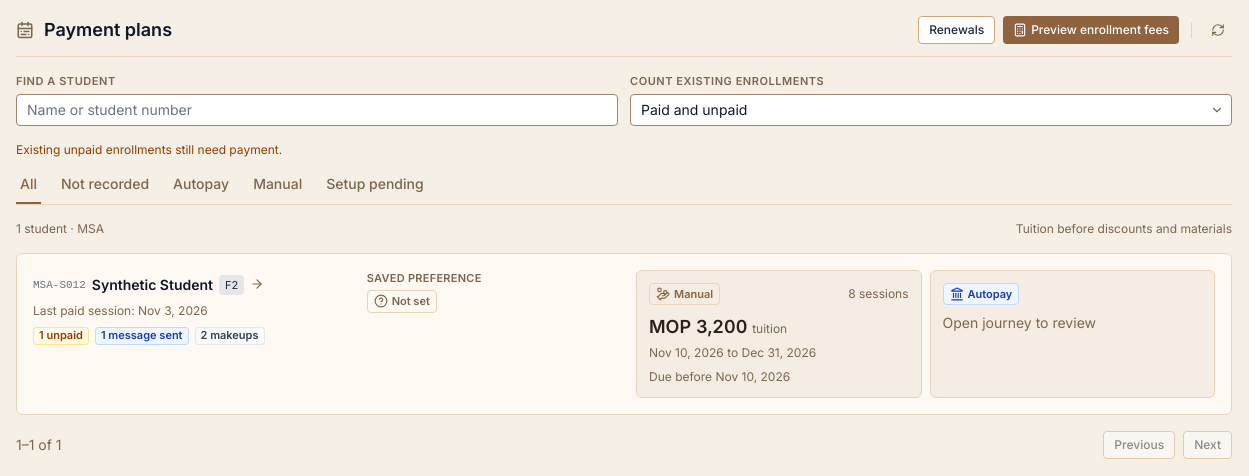
Test: billing source review › hides previous roster rows while a changed coverage assumption is loading
The width and height of the screenshot is (1249, 476).
Check: the text "Synthetic Student" is shown, box [92,275,213,295]
Select "Paid only" in the dropdown labelled "Count existing enrollments" at coordinates (931, 110), box [630,94,1232,126]
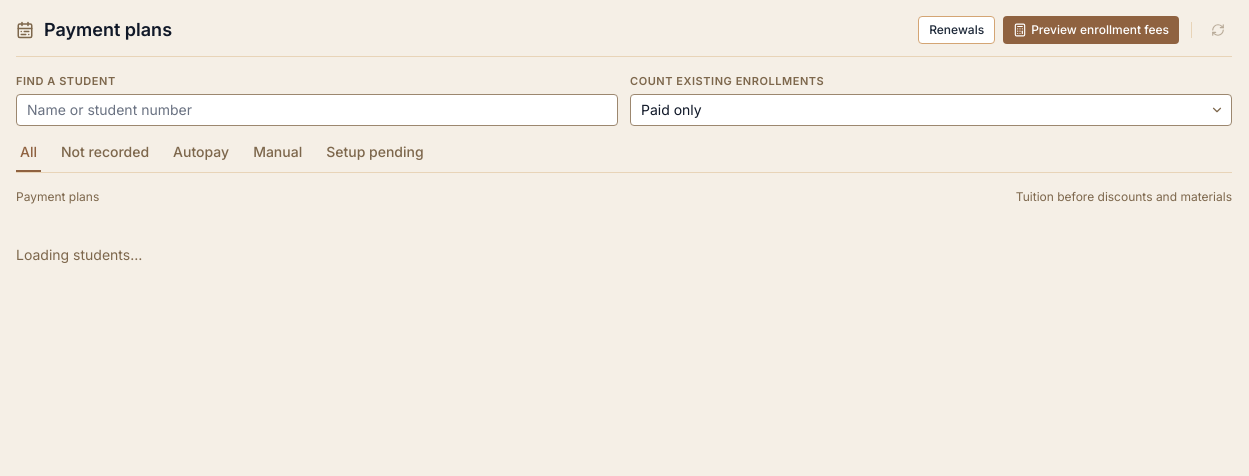
Check: the link "Synthetic Student" is gone
Check: the message shows "Loading students", box [16,246,142,262]
Check: the text "Existing unpaid enrollments still need payment" is gone
